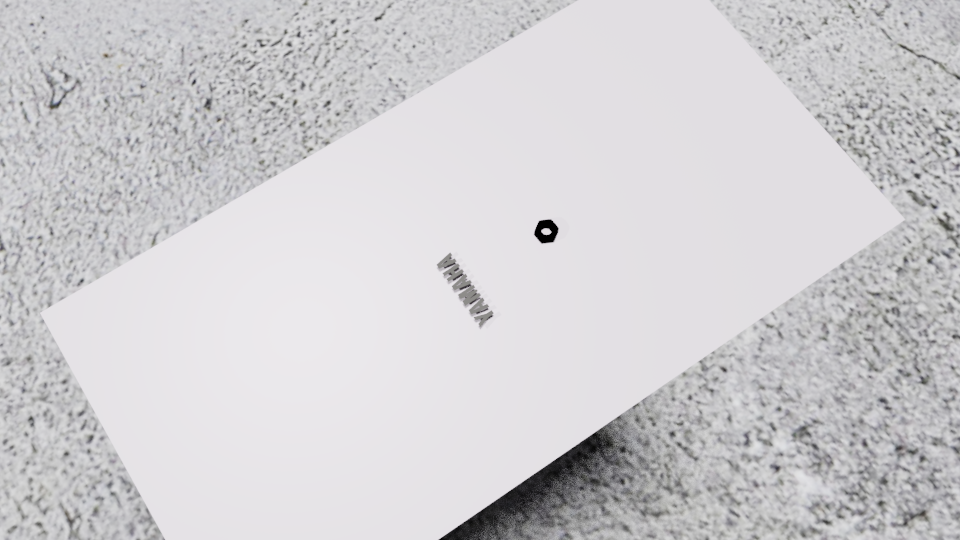yamaha_letters: (435, 251, 494, 328)
